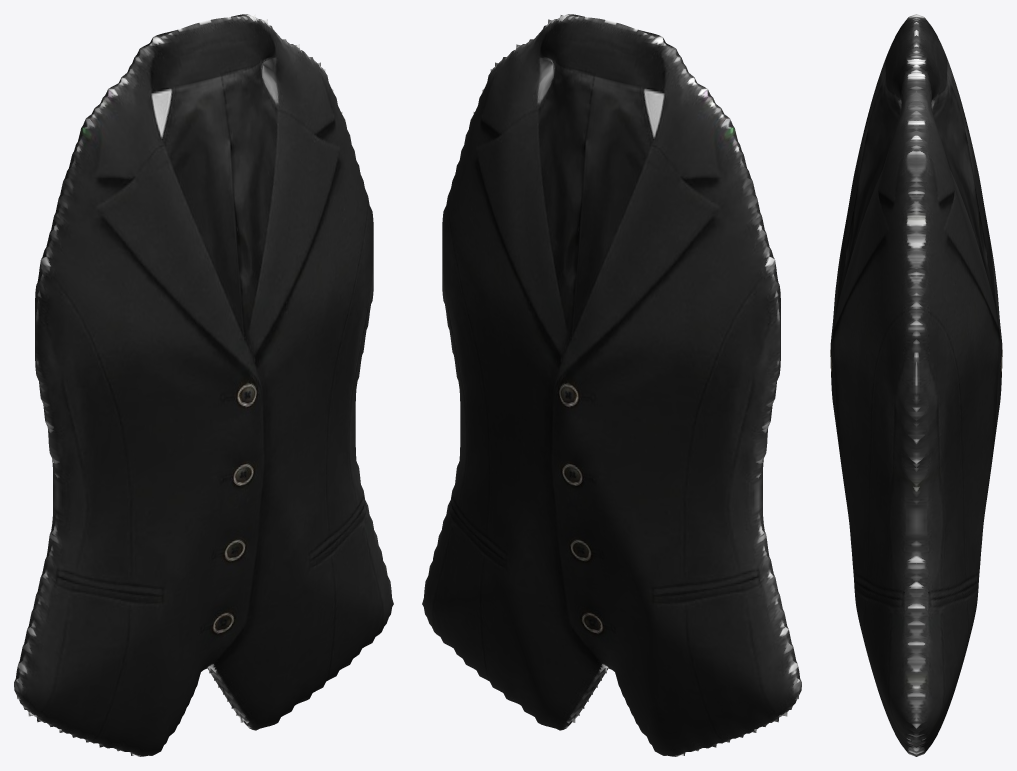
Rendered from prod-ae-noir-halter-vest.glb.
3 renders of one model, left to right at view 1: azimuth 30°, elevation 25°; view 2: azimuth 150°, elevation 25°; view 3: azimuth 270°, elevation 25°, orthographic. The views are drawn at different scales.
Visible parts, largest first — view 1: prod-ae-noir-halter-vest_standalone; view 2: prod-ae-noir-halter-vest_standalone; view 3: prod-ae-noir-halter-vest_standalone.
Boxes of the visible parts, <box> form: prod-ae-noir-halter-vest_standalone: <box>14,14,393,756</box>; prod-ae-noir-halter-vest_standalone: <box>422,14,801,756</box>; prod-ae-noir-halter-vest_standalone: <box>830,14,1002,756</box>.
Size of the model in its own units: 0.2491 by 0.4586 by 0.1029.
Materials: 1 (1 with a texture image).
